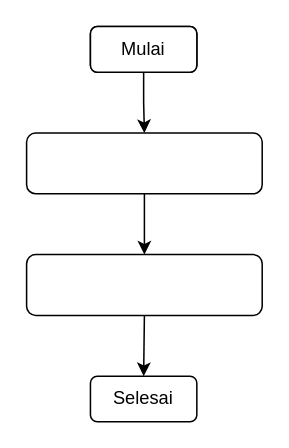
This 289x448 diagram has some shape labels left out. The shapes that lost their labels are listed below. From the top down, each one's centre as x and y in pixels, then its label:
At [143,162]: "Selesai Kunjungan".
At [143,284]: "Proses Checkout".
